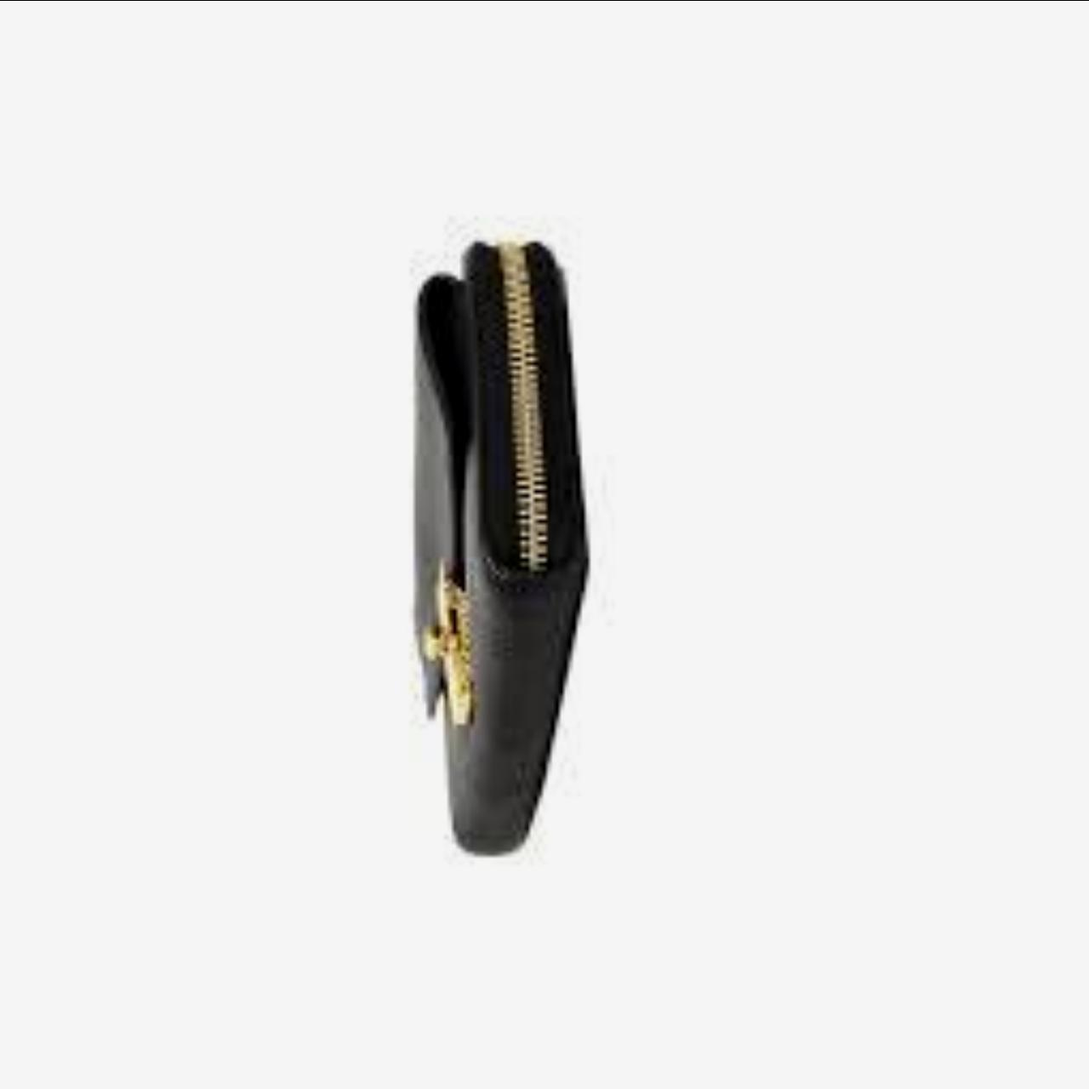wallet: (365, 201, 587, 888)
